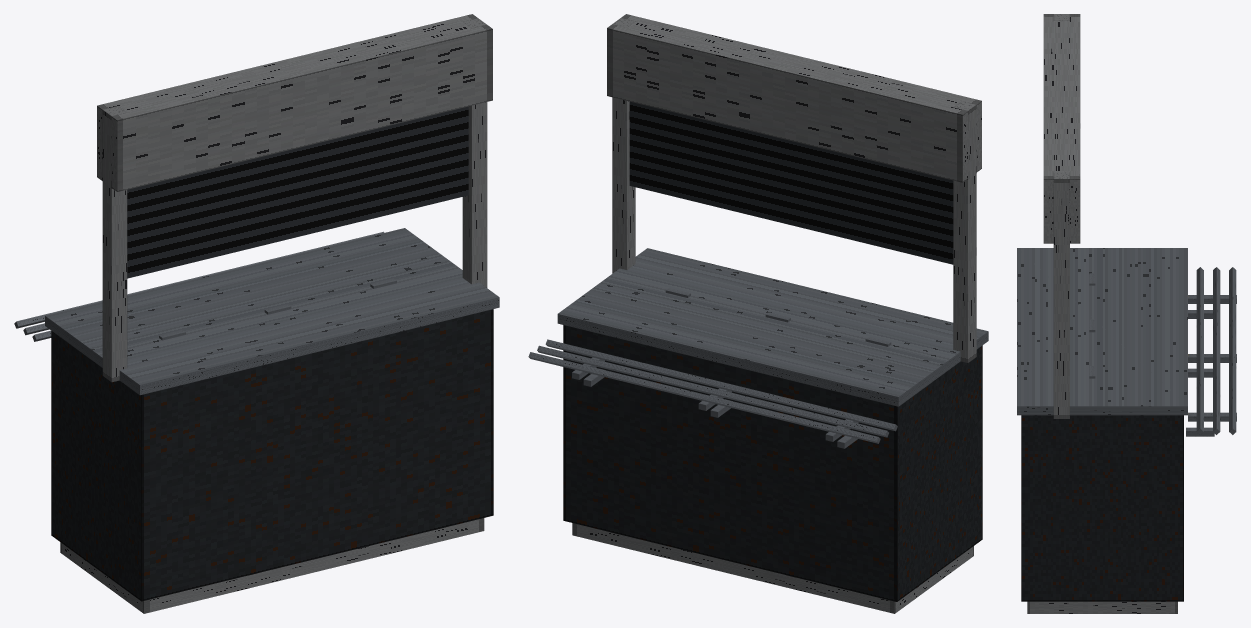
The model's file is canteen_counter_medbay_clean.glb.
3 renders of one model, left to right at view 1: azimuth 30°, elevation 25°; view 2: azimuth 150°, elevation 25°; view 3: azimuth 270°, elevation 25°, orthographic. The views are drawn at different scales.
Visible parts, largest first — view 1: canteen_counter_medbay_clean; view 2: canteen_counter_medbay_clean; view 3: canteen_counter_medbay_clean.
Boxes of the visible parts, x1,y1,x2,y2 form: canteen_counter_medbay_clean: (14, 14, 499, 613); canteen_counter_medbay_clean: (528, 14, 988, 613); canteen_counter_medbay_clean: (1017, 14, 1236, 613).
Size of the model in its own units: 1.92 by 2.4 by 1.08.
Materials: 4 (4 with a texture image).
